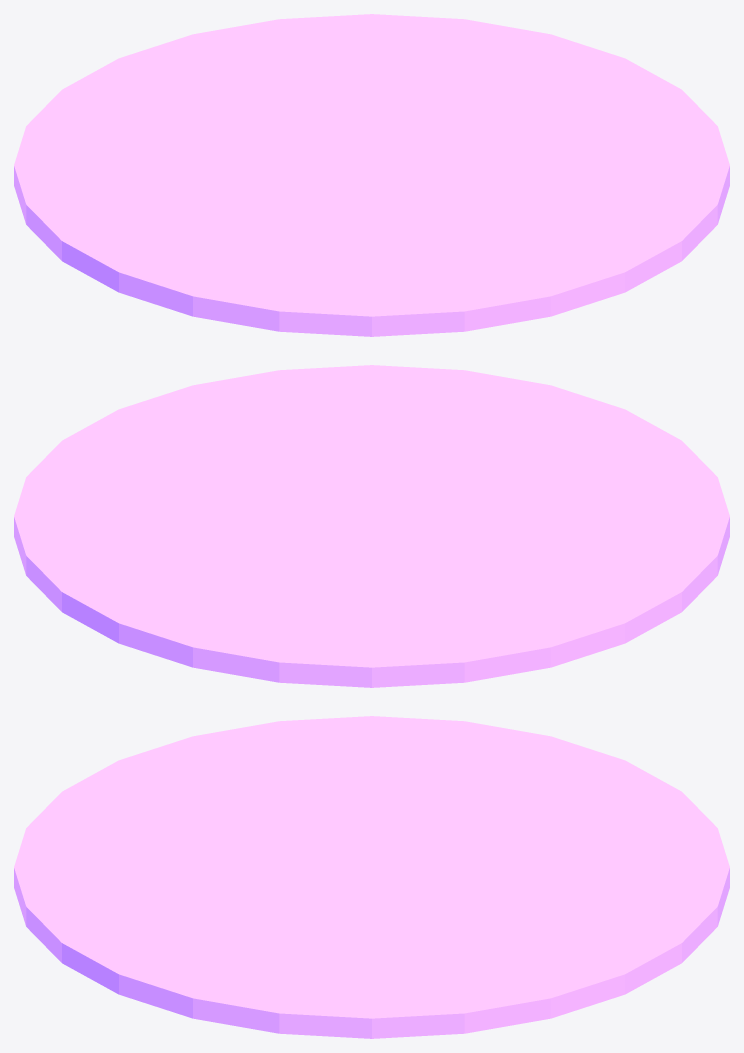
Rendered from prop_warp.glb.
3 views of the same model, one above another, from view 1: azimuth 30°, elevation 25°; view 2: azimuth 150°, elevation 25°; view 3: azimuth 270°, elevation 25° (orthographic).
Visible parts, largest first — view 1: ring; view 2: ring; view 3: ring.
Boxes of the visible parts, x1,y1,x2,y2 form: ring: (14,14,729,336); ring: (14,365,729,687); ring: (14,716,729,1038).
Bounding box in the file's own units: 0.96 × 0.03 × 0.96.
